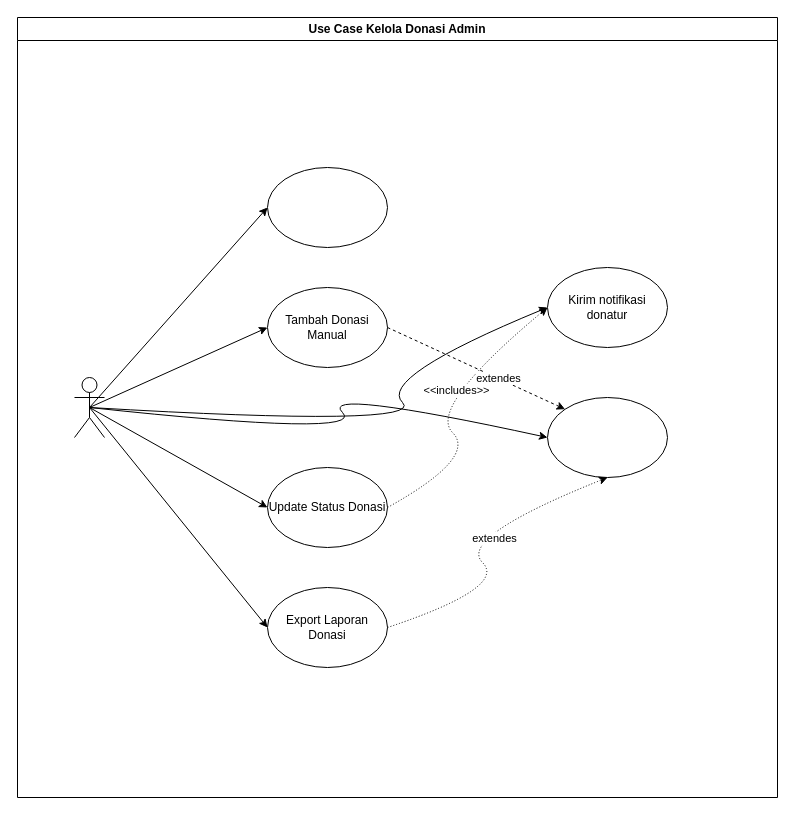
The diagram is 795 pixels wide and 815 high, and some of its shapes have lost their labels. Here are the shapes that lost their labels. From the top down, the centre of each, then its label:
At (x=327, y=207): "Filter Donasi".
At (x=89, y=407): "Admin".
At (x=607, y=437): "Lihat Daftar Donasi".
